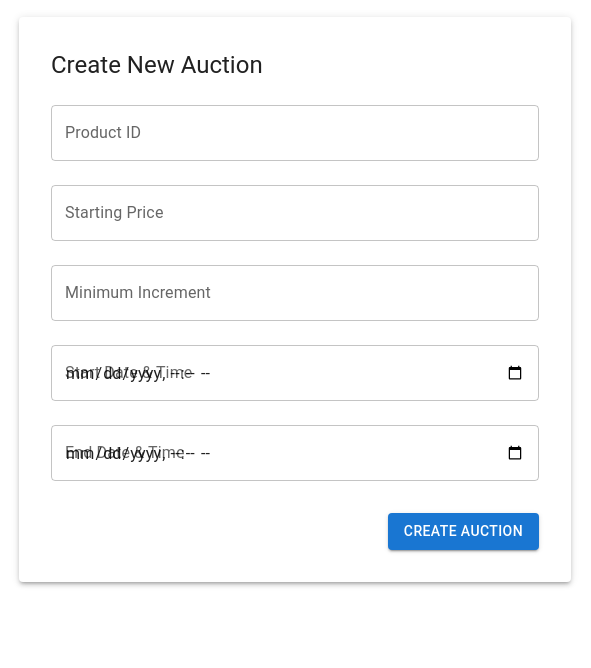
CreateAuction Component › creates auction successfully
Type "101" into the field labelled "Product ID" at (295, 133), box left=51, top=105, right=539, bottom=161
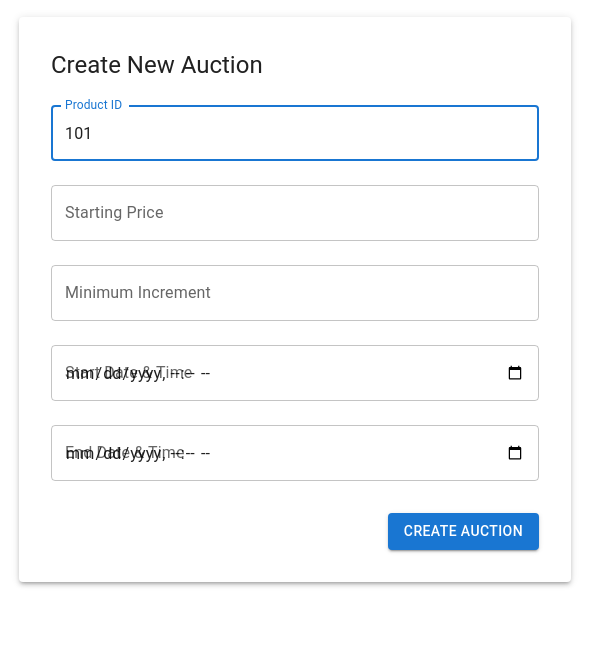
Type "500" into the number field labelled "Starting Price" at (295, 213), box left=51, top=185, right=539, bottom=241
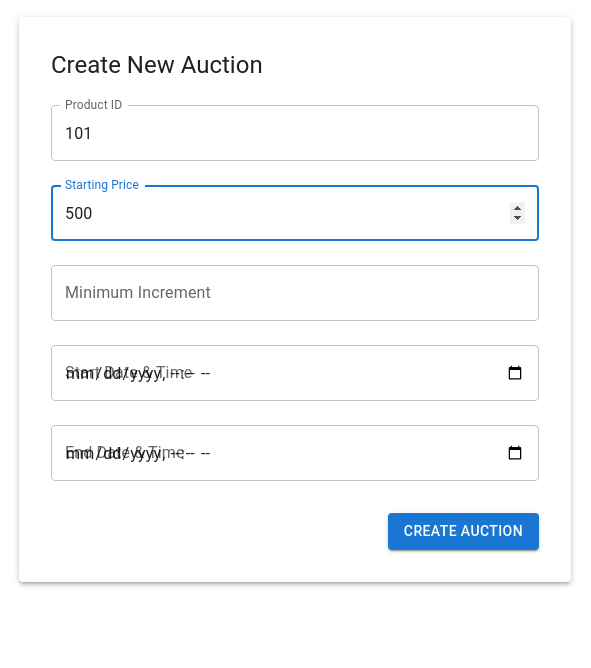
Type "50" into the number field labelled "Minimum Increment" at (295, 293), box left=51, top=265, right=539, bottom=321
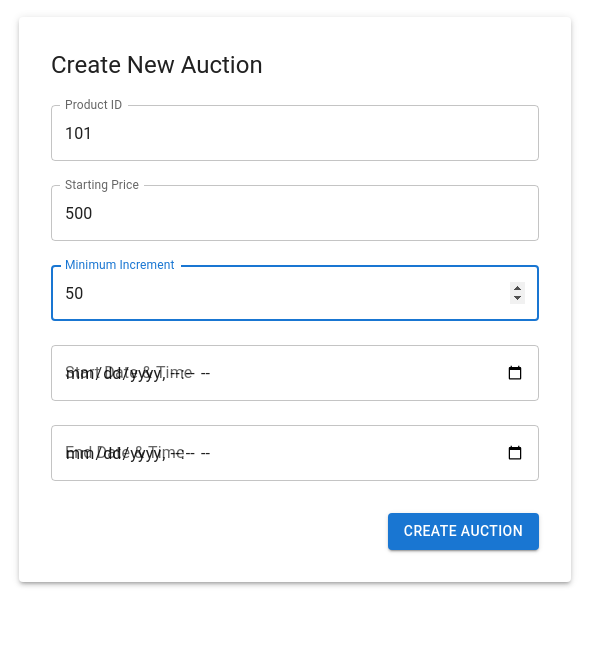
Type "2026-08-05T10:00" into the field labelled "Start Date & Time" at (295, 373), box left=51, top=345, right=539, bottom=401
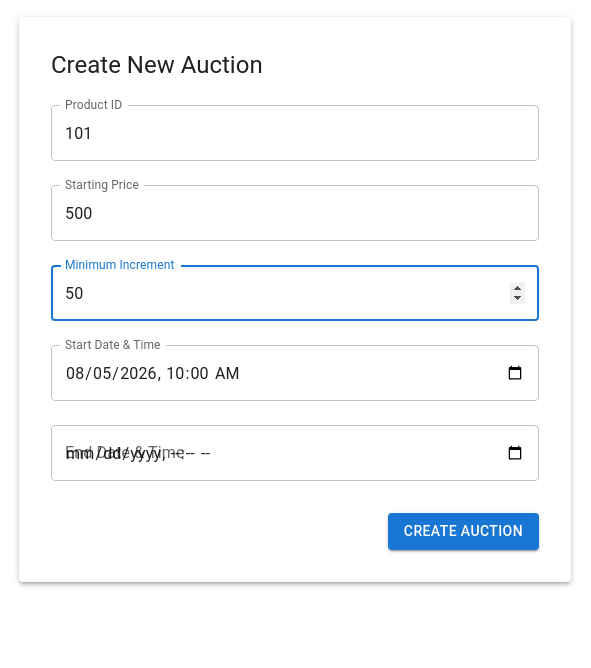
Type "2026-08-05T12:00" into the field labelled "End Date & Time" at (295, 453), box left=51, top=425, right=539, bottom=481
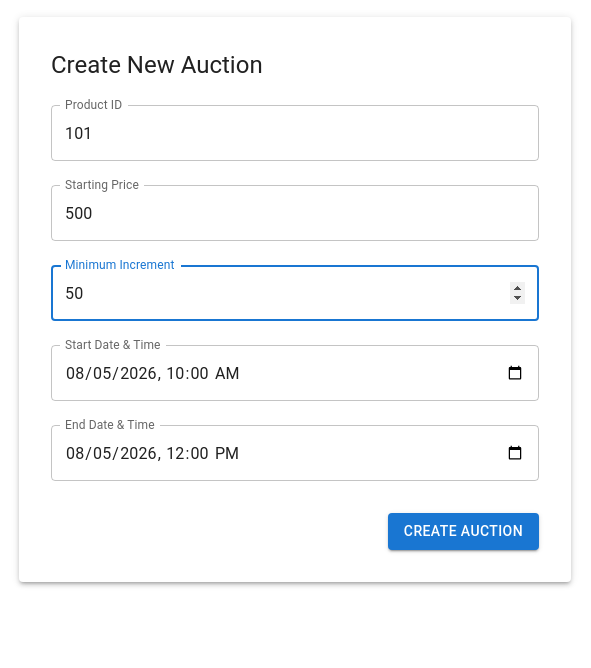
Click the button "Create Auction" at (463, 532), box left=388, top=513, right=539, bottom=550
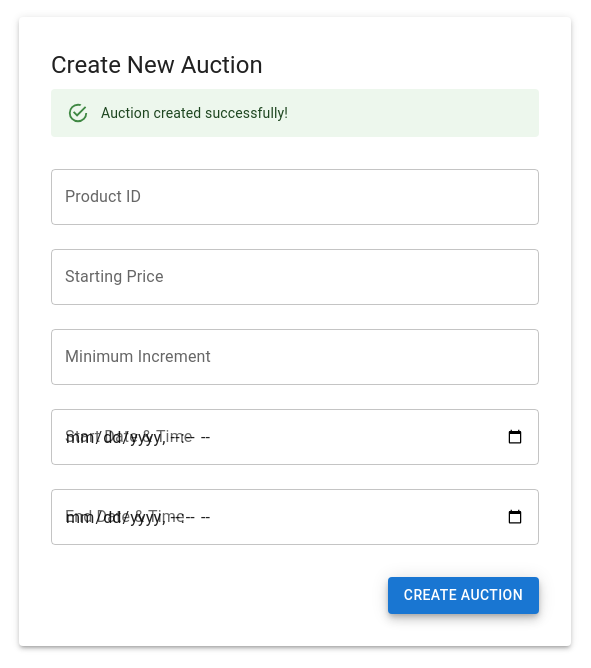
Result: the text "Auction created successfully!" is shown at left=101, top=105, right=288, bottom=121
